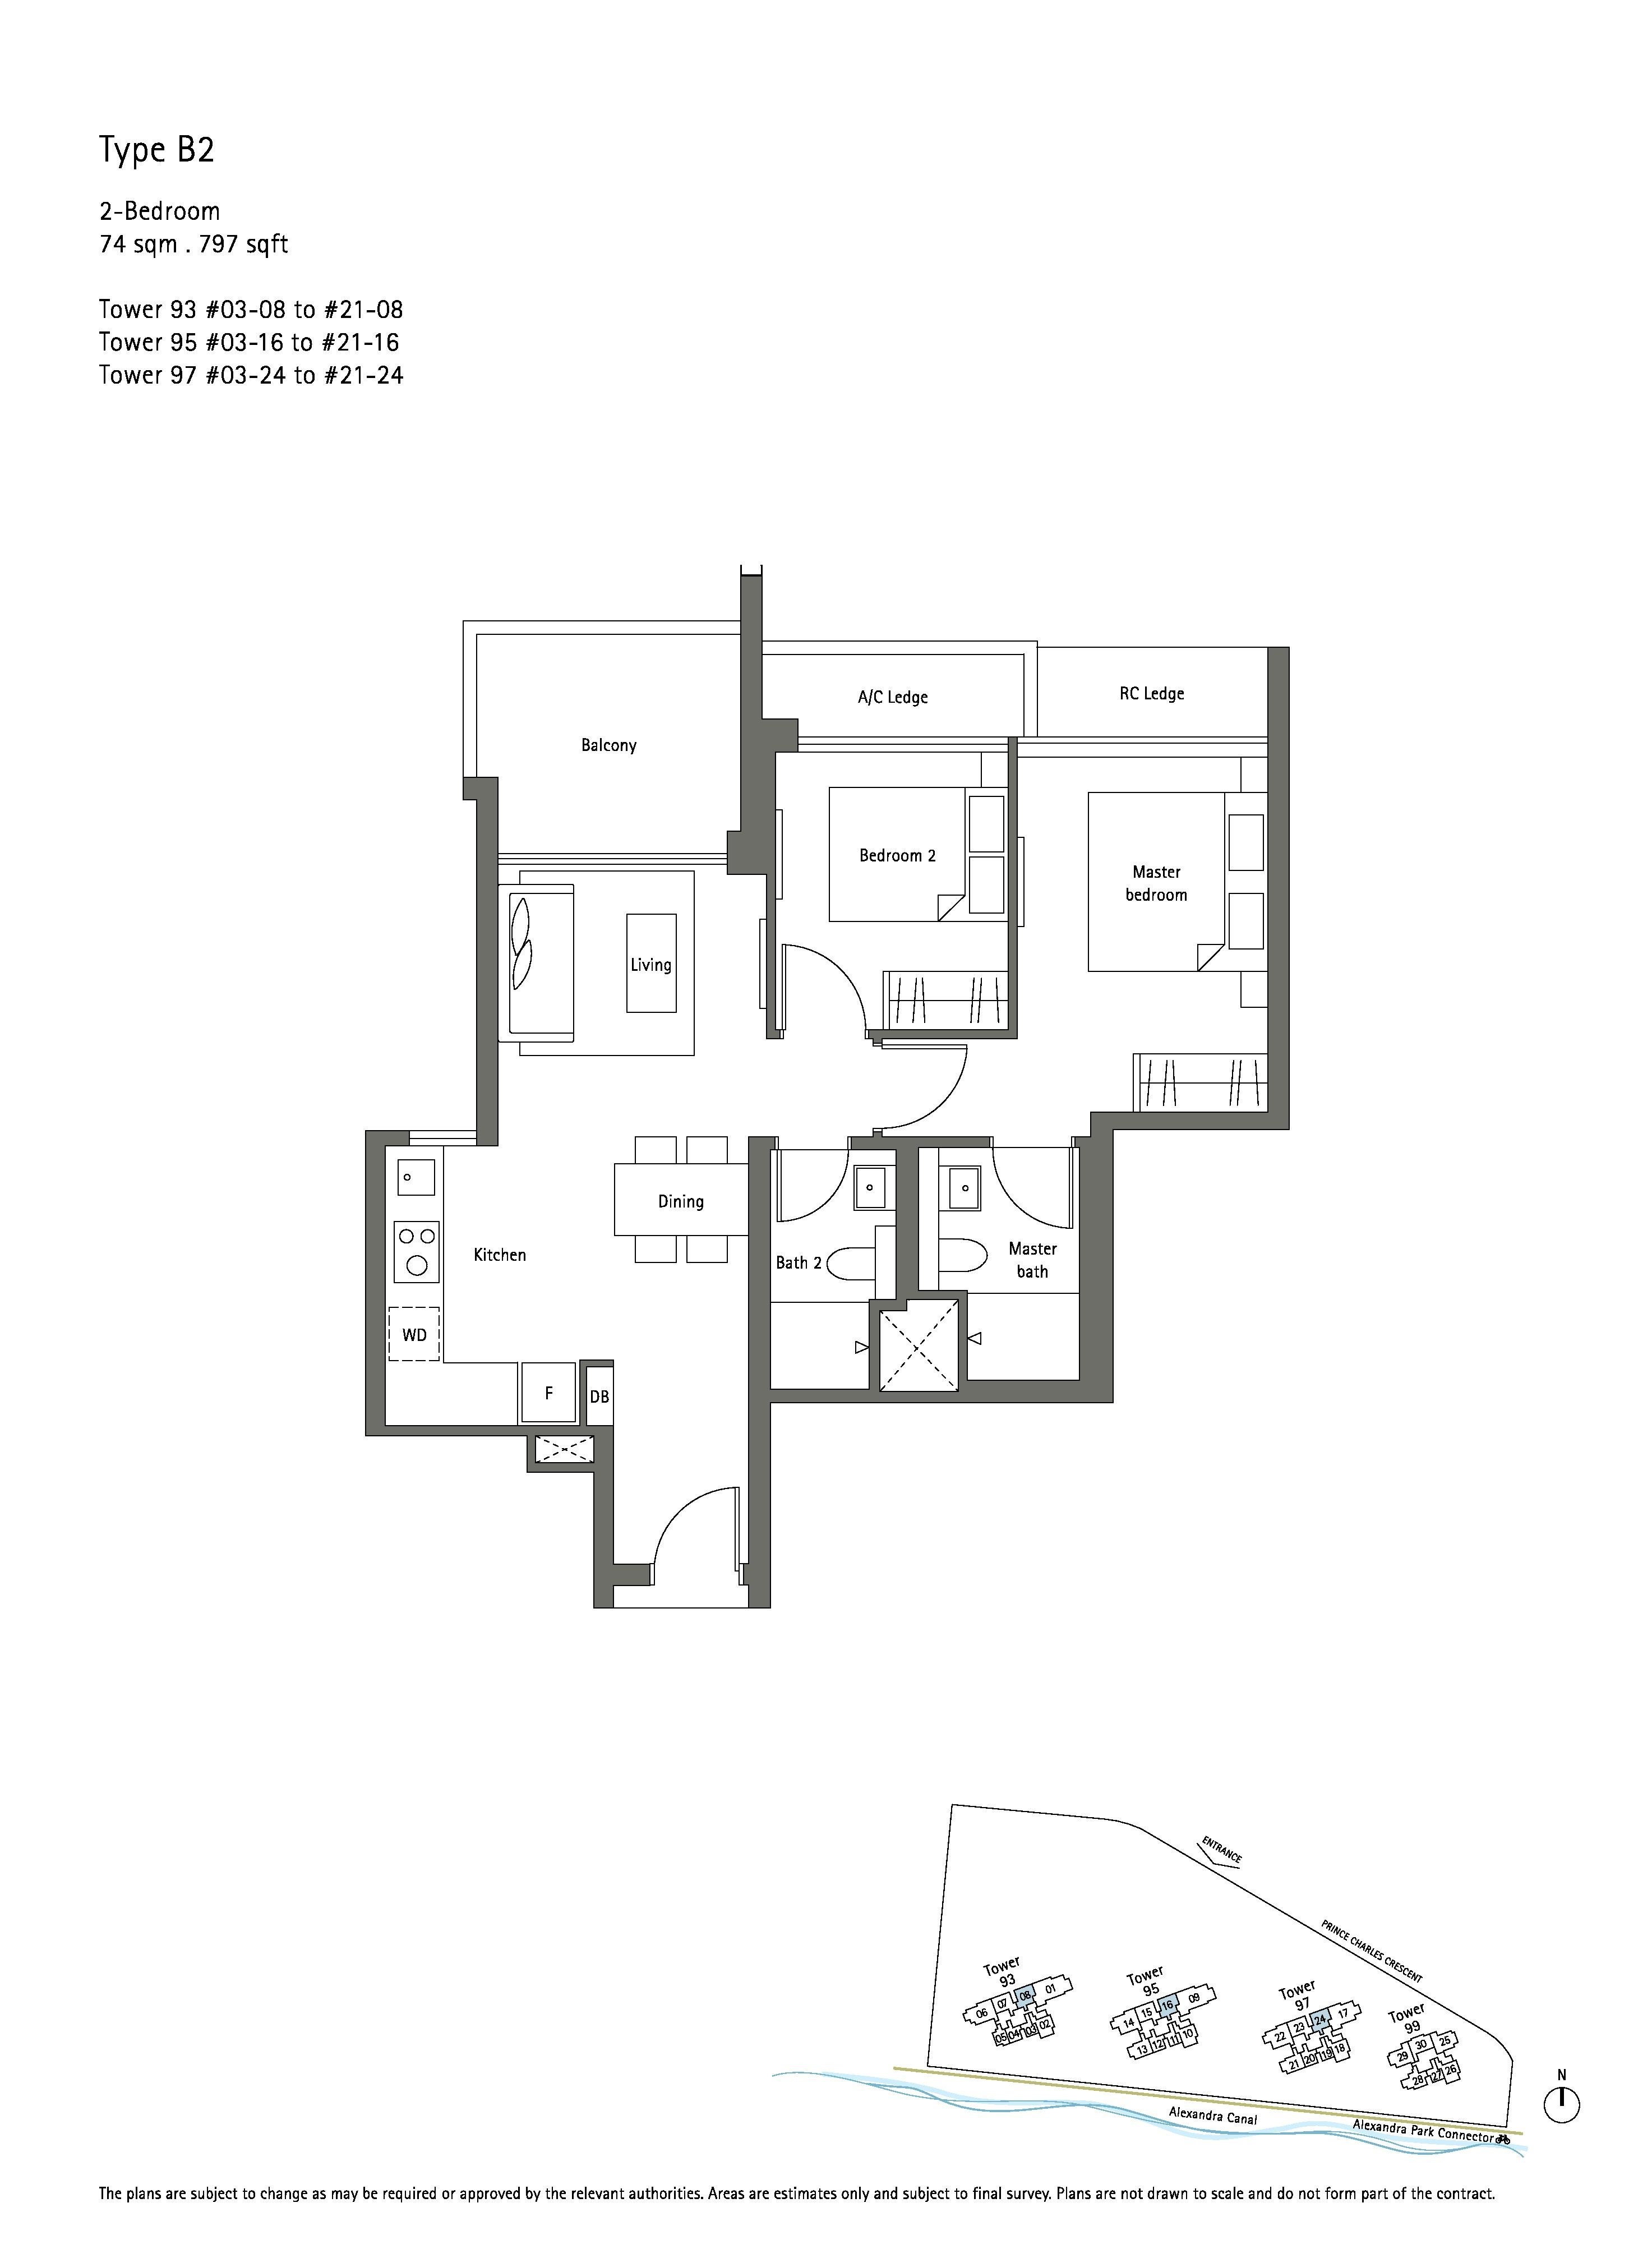door: (779, 936, 868, 1023), (894, 1041, 974, 1133), (653, 1479, 742, 1559), (987, 1152, 1076, 1233), (775, 1154, 849, 1228)
